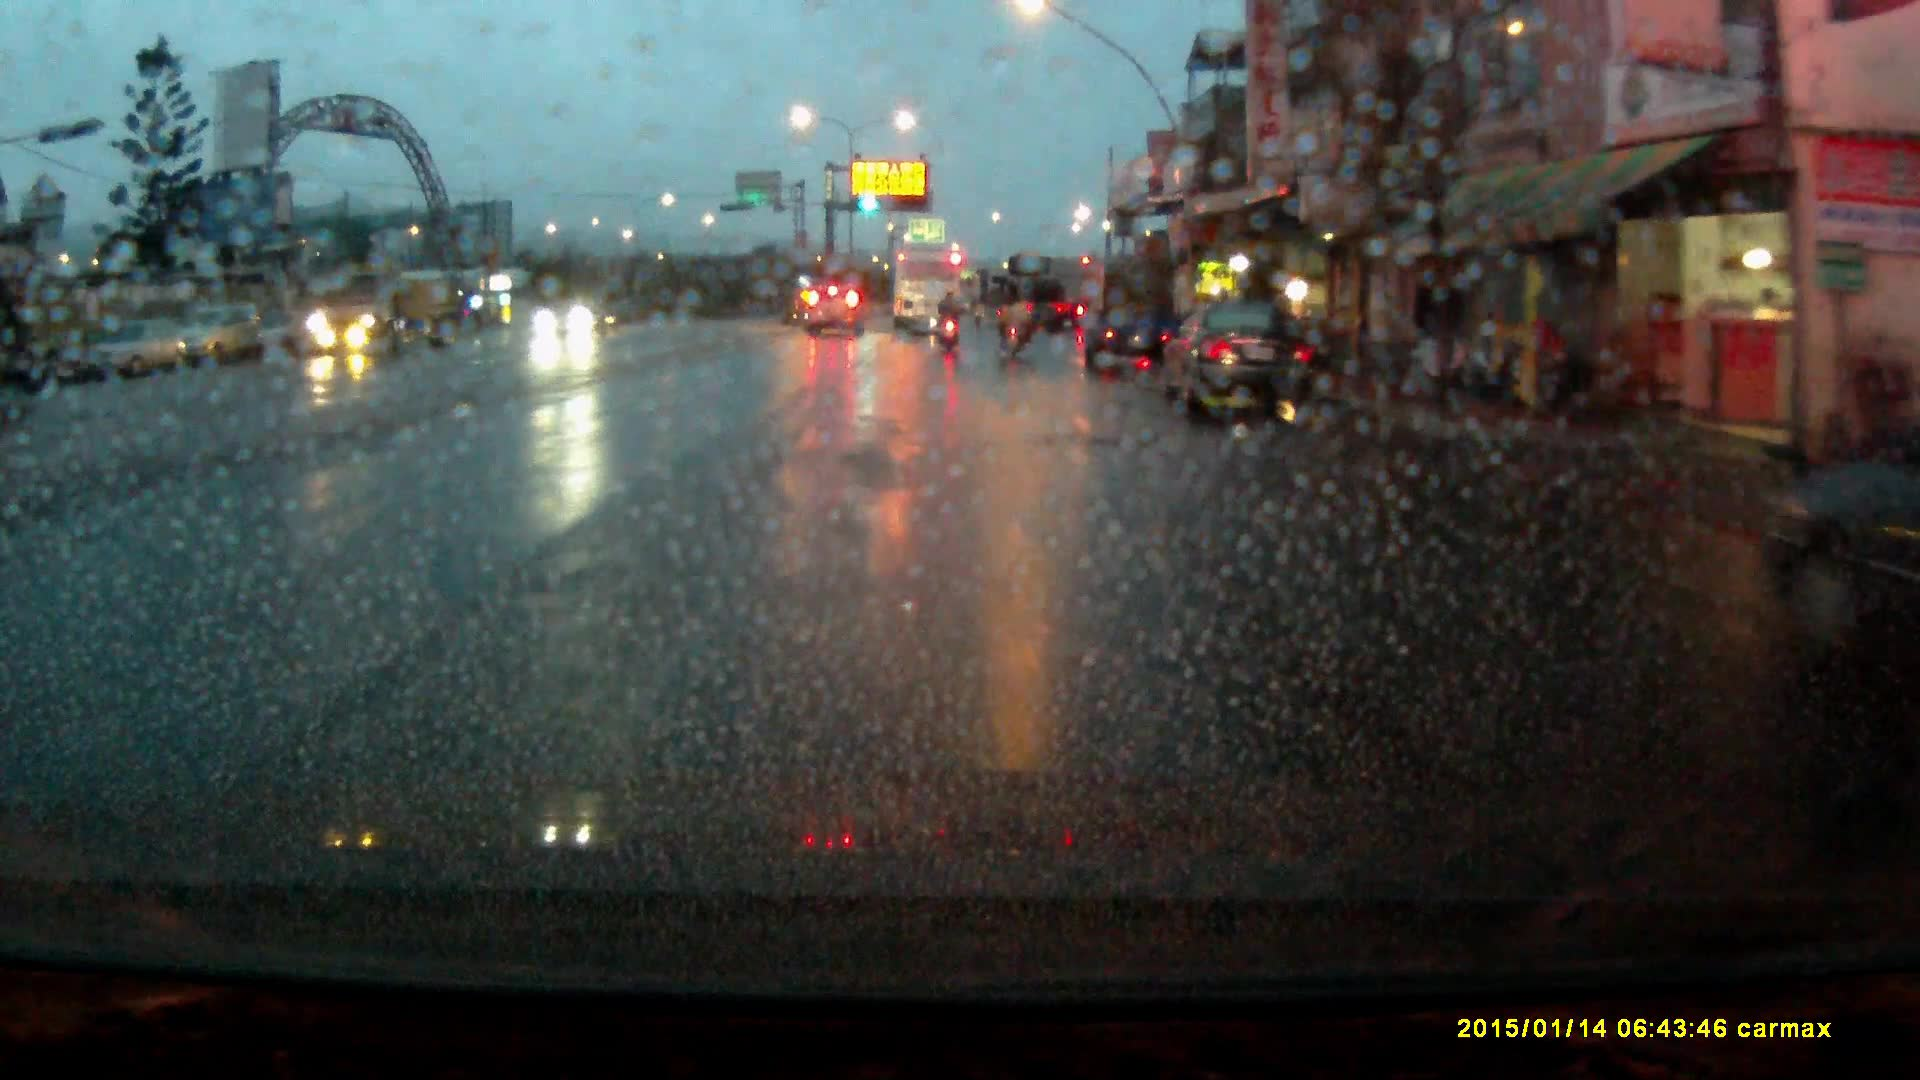rider: (994, 276, 1029, 359), (936, 284, 964, 350)
vehicle: (1161, 303, 1323, 426), (301, 262, 464, 352), (1079, 259, 1180, 366), (892, 248, 960, 335), (90, 320, 183, 381), (1006, 254, 1073, 338), (167, 303, 257, 364), (804, 278, 867, 337), (538, 297, 602, 338)
